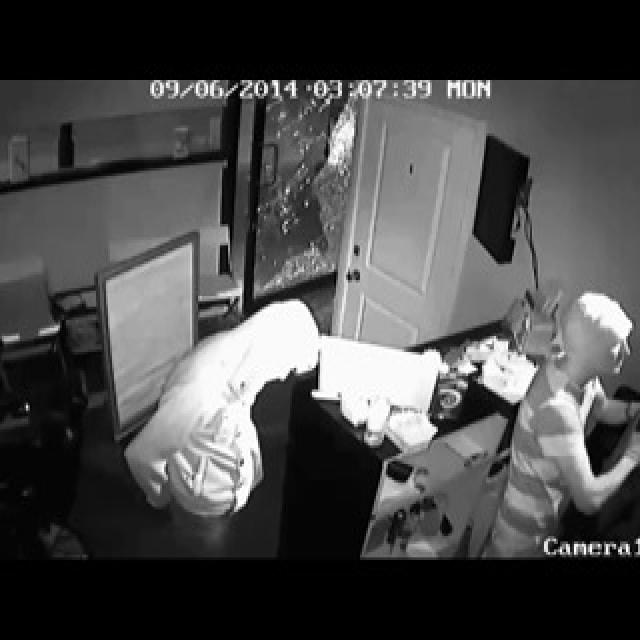thief: (105, 317, 334, 551), (533, 286, 633, 546)
